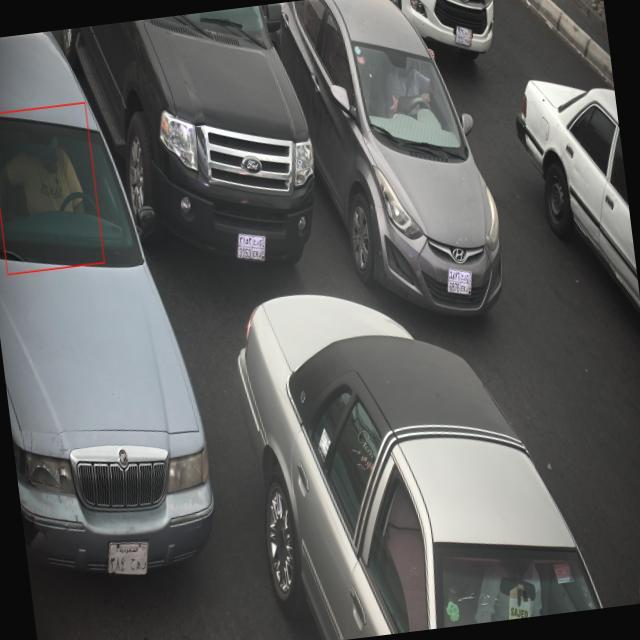windshield: (1, 114, 145, 279), (346, 36, 470, 163)
